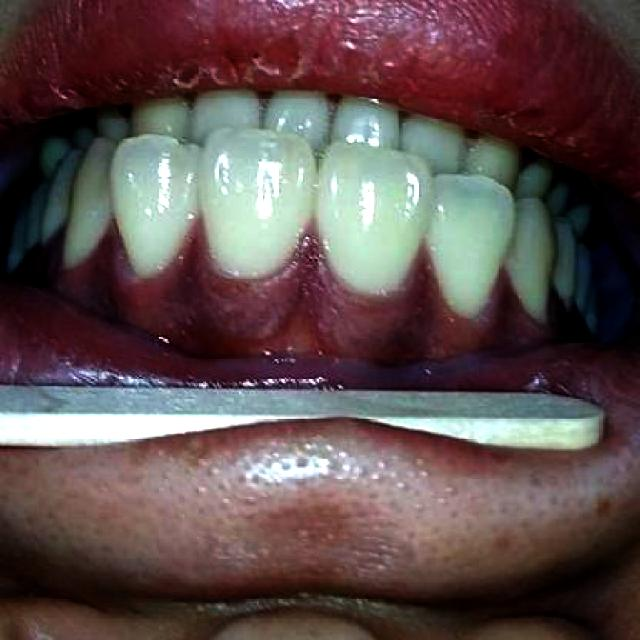Plaque: (90, 225, 529, 347)
